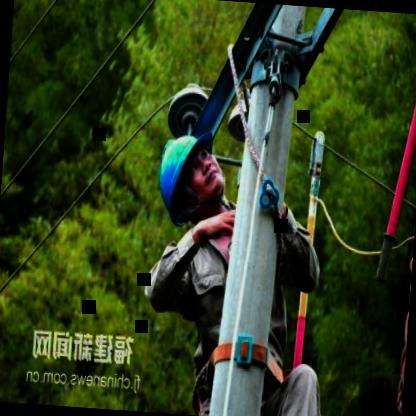helmet: (156, 126, 230, 223)
